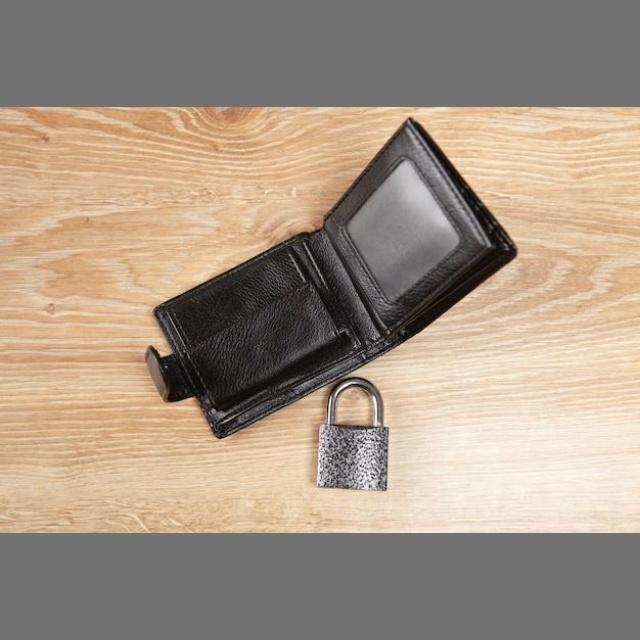Wallet: (115, 115, 513, 428)
